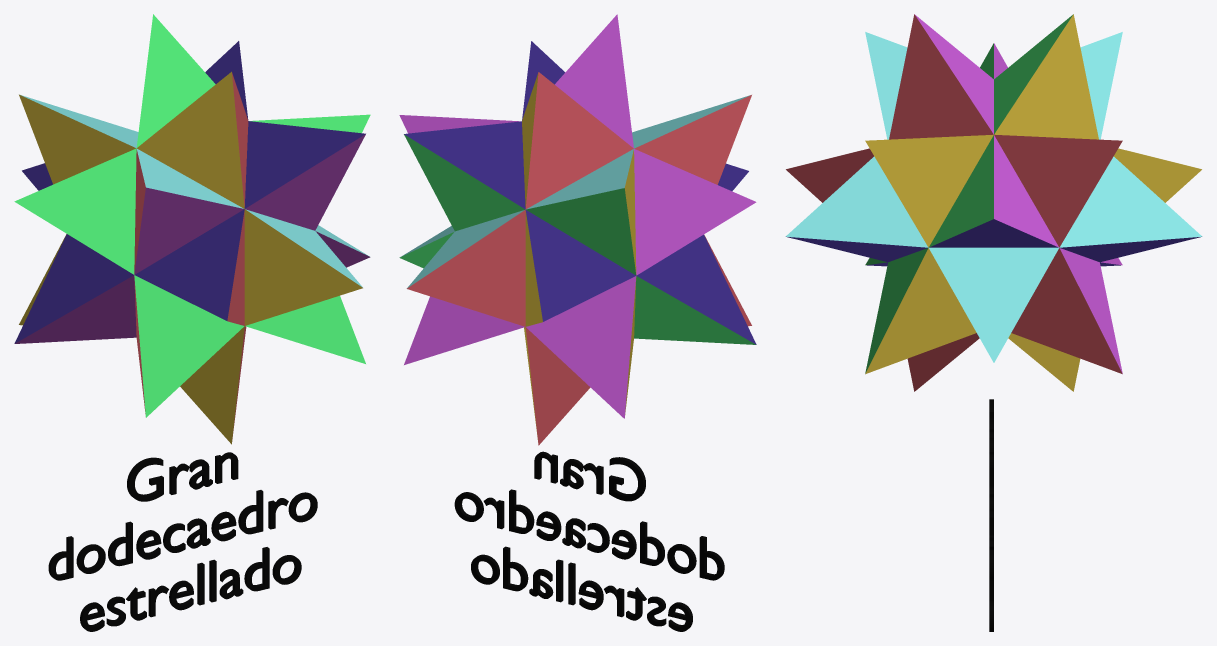
Rendered from gran_dodecaedro_estrellado.glb.
The picture shows the model from 3 angles, left to right: view 1: azimuth 30°, elevation 25°; view 2: azimuth 150°, elevation 25°; view 3: azimuth 270°, elevation 25°; orthographic projection.
Visible parts, largest first — view 1: Solid.010, Solid.008, Solid.003, Solid.012, Text.001, Solid.014, Solid.007, Solid.006; view 2: Solid.013, Solid.006, Solid.003, Solid.011, Text.001, Solid.014, Solid.009, Solid.008; view 3: Solid.014, Solid.007, Solid.009, Solid.010, Solid.013, Solid.005, Text.001.
Boxes of the visible parts, x1,y1,x2,y2 form: Solid.010: [14, 14, 370, 417]; Solid.008: [19, 71, 362, 444]; Solid.003: [14, 41, 365, 343]; Solid.012: [15, 134, 370, 343]; Text.001: [48, 452, 317, 631]; Solid.014: [20, 95, 369, 287]; Solid.007: [227, 73, 248, 438]; Solid.006: [134, 149, 145, 413]; Solid.013: [399, 14, 756, 418]; Solid.006: [407, 72, 751, 445]; Solid.003: [404, 41, 756, 344]; Solid.011: [399, 134, 755, 344]; Text.001: [454, 451, 724, 631]; Solid.014: [401, 95, 750, 288]; Solid.009: [522, 73, 542, 439]; Solid.008: [624, 150, 636, 414]; Solid.014: [786, 32, 1201, 362]; Solid.007: [786, 14, 1122, 391]; Solid.009: [865, 14, 1201, 391]; Solid.010: [865, 14, 1073, 373]; Solid.013: [914, 14, 1122, 373]; Solid.005: [786, 219, 1201, 266]; Text.001: [989, 399, 993, 631].
Bounding box in the file's own units: 3.35 × 5.06 × 3.35.
